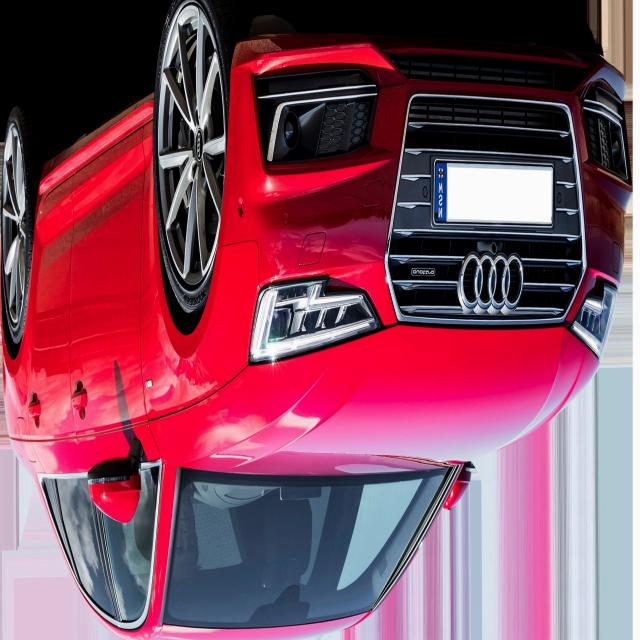red: (3, 32, 640, 640)
